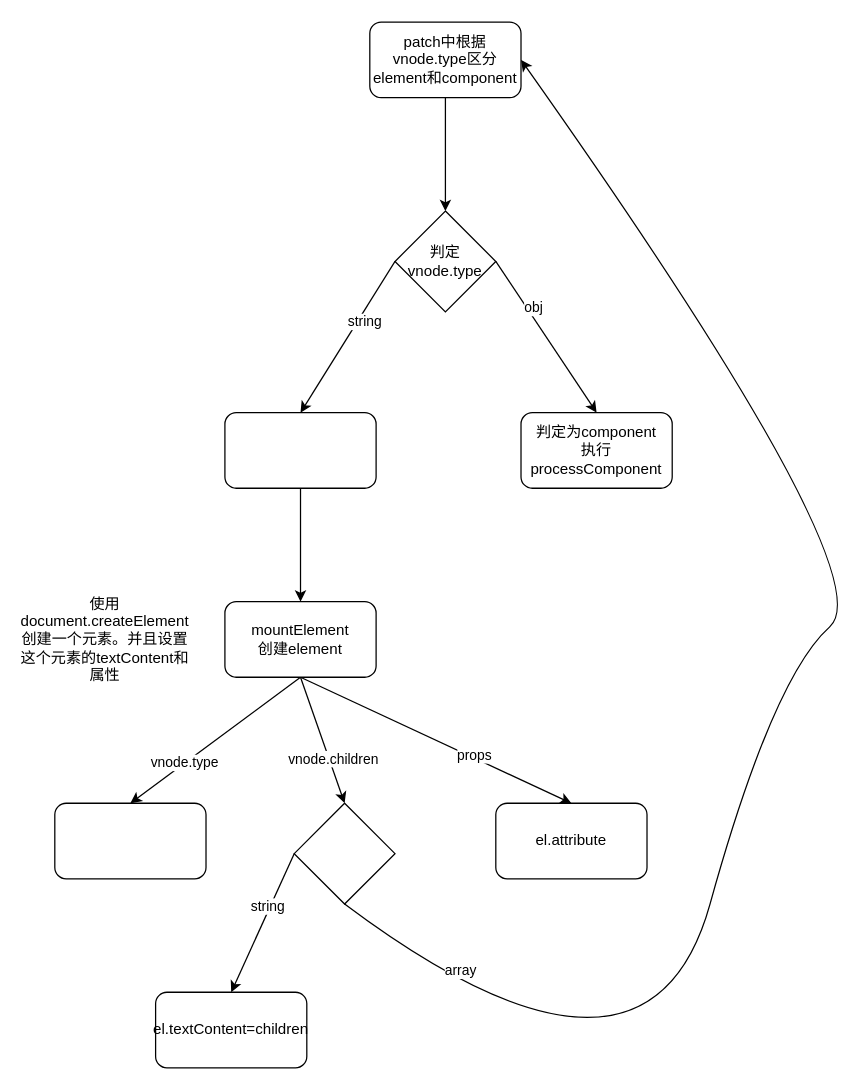
Image size: 861x1090. Some labels were removed from this diagram. The centre of each missing label's shape, as x and y in pixels:
"el=document.createElement" goes at point 130,840.
"判定为element 执行processElement" goes at point 300,449.
"判断children类型" goes at point 344,853.
